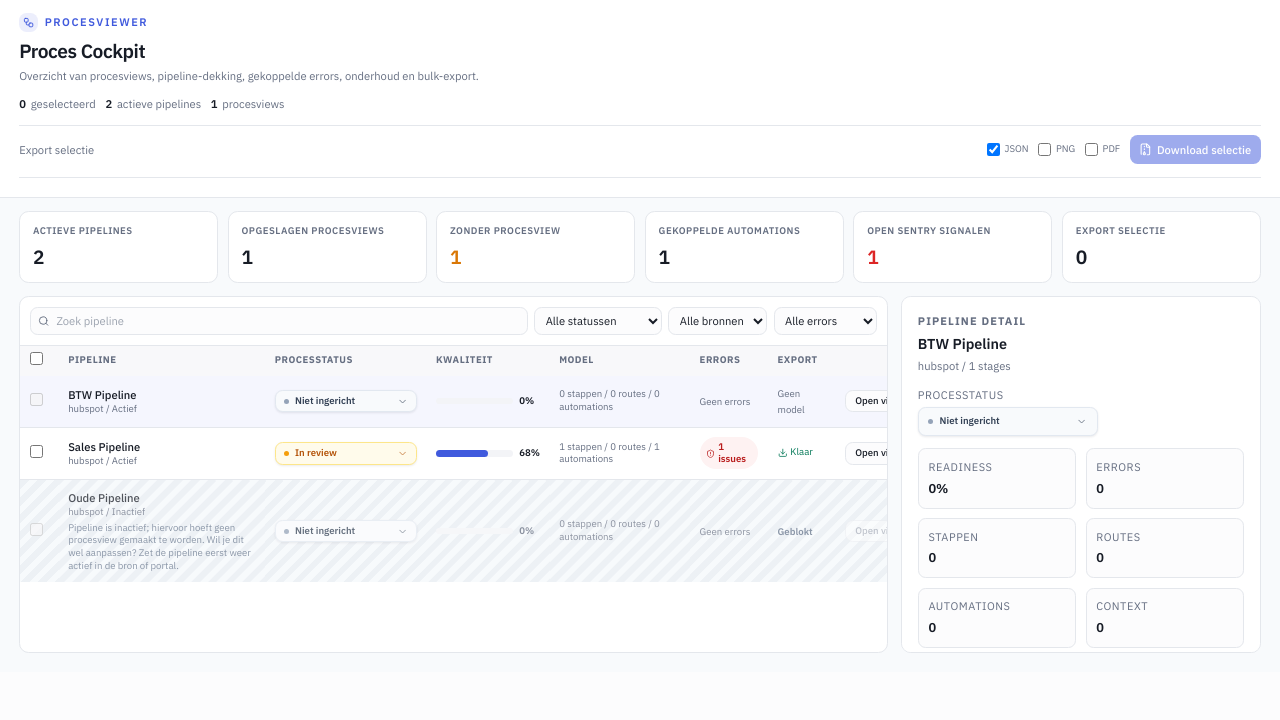
Test: Procesviewer cockpit › filters pipelines with the default manual status
This screenshot has width=1280, height=720.
Select "Niet ingericht" in the 1st dropdown showing "Alle statussen". click: (598, 321)
box: left=534, top=307, right=662, bottom=336
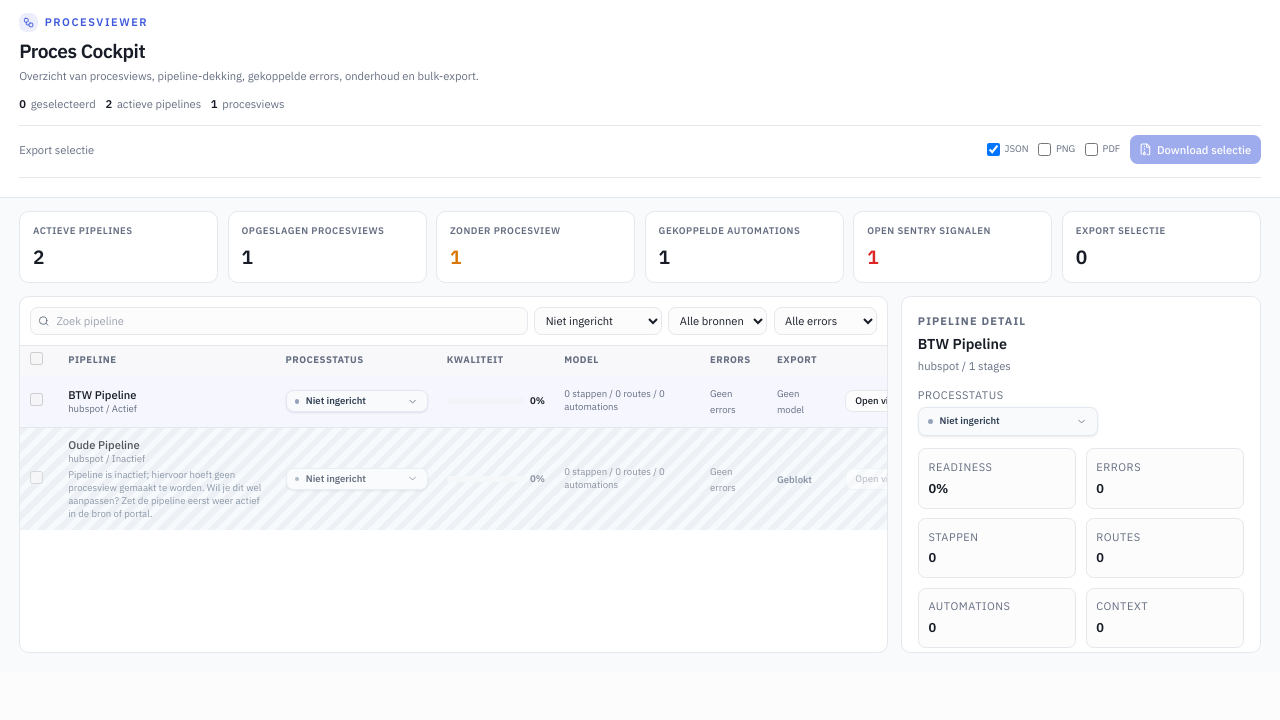
Expected: the row "BTW Pipeline" is shown, left=20, top=376, right=887, bottom=427
Result: the text "Sales Pipeline" is gone
